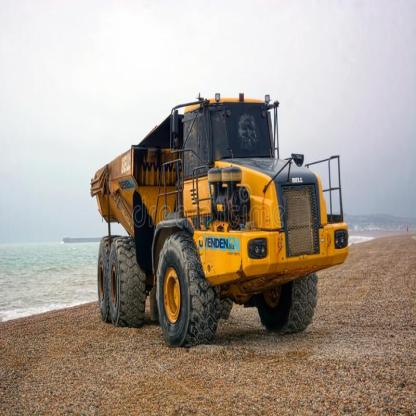dump_truck: (80, 88, 364, 357)
